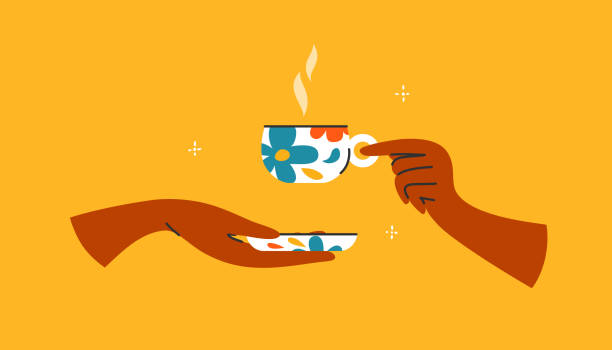cup: (17, 12, 591, 325)
